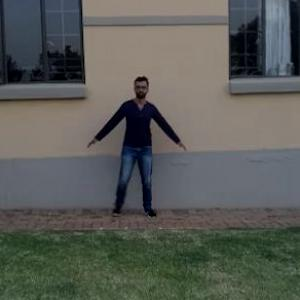land: (85, 80, 183, 229)
